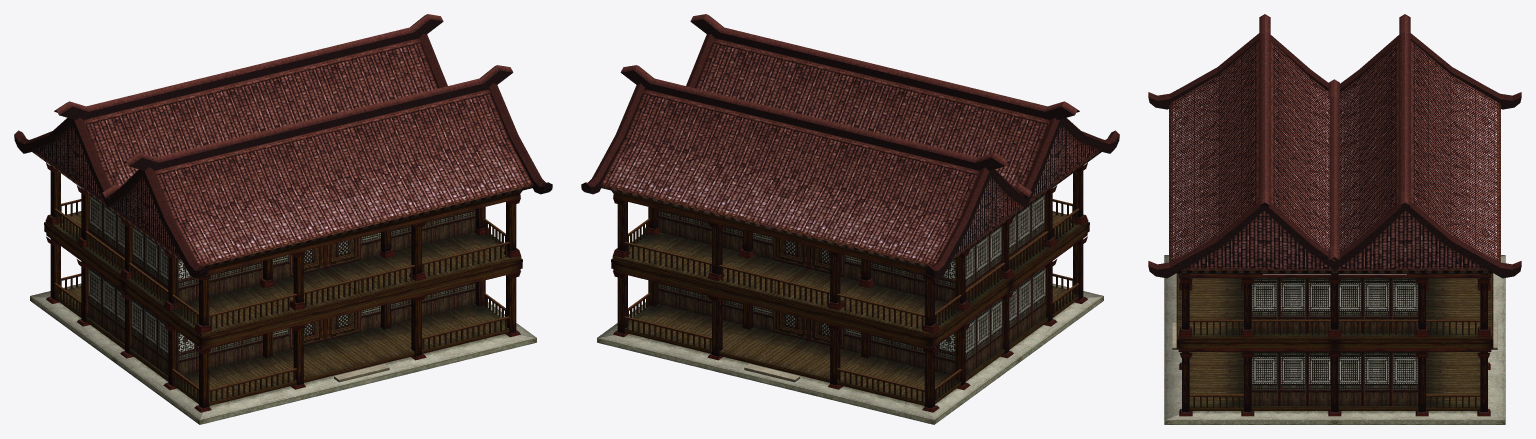
Rendered from a1-033-guesthouse-01.glb.
3 views of the same model, side by side, from view 1: azimuth 30°, elevation 25°; view 2: azimuth 150°, elevation 25°; view 3: azimuth 270°, elevation 25° (orthographic).
Parts seen in each view (by area): view 1: 033-01; view 2: 033-01; view 3: 033-01.
Part boxes in pixels (x1=…): 033-01: x1=14, y1=14, x2=552, y2=424; 033-01: x1=581, y1=14, x2=1119, y2=424; 033-01: x1=1148, y1=14, x2=1521, y2=424.
Bounding box in the file's own units: 21.33 × 12.64 × 17.86.
Materials: 2 (2 with a texture image).
